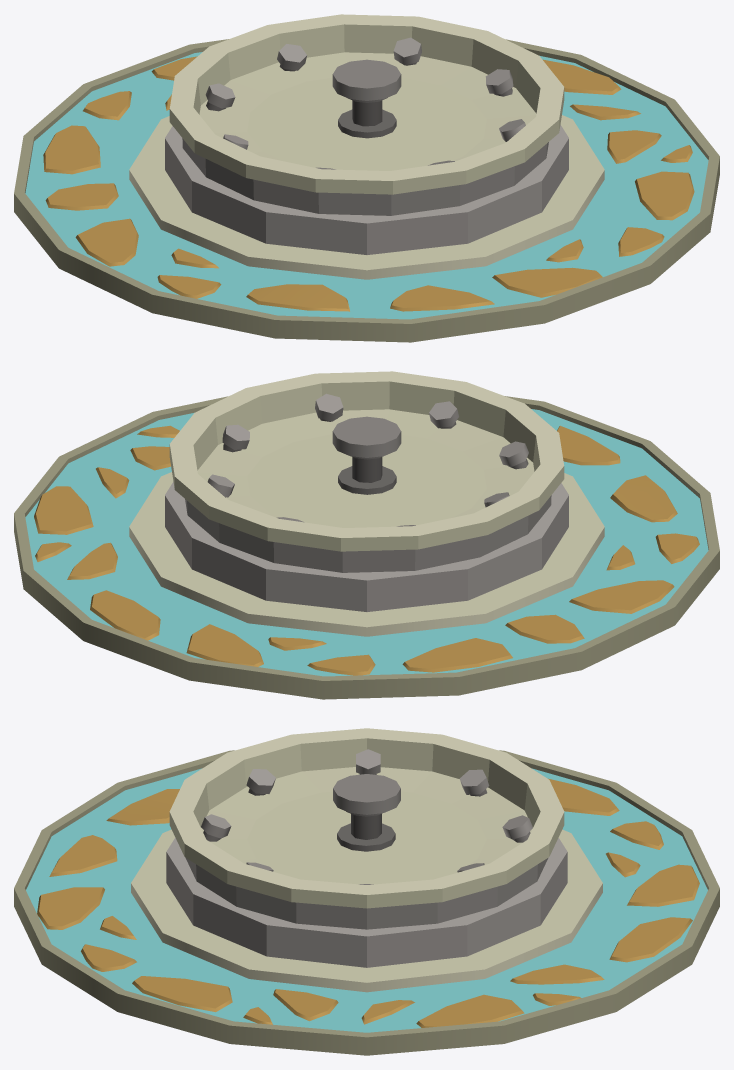
Rendered from fountain.FBX.
The picture shows the model from 3 angles, top to bottom: view 1: azimuth 30°, elevation 25°; view 2: azimuth 150°, elevation 25°; view 3: azimuth 270°, elevation 25°; orthographic projection.
Parts seen in each view (by area): view 1: fountain; view 2: fountain; view 3: fountain.
Part boxes in pixels (box(x1,y1,x2,y2)): fountain: box(14, 14, 719, 342); fountain: box(14, 371, 719, 699); fountain: box(14, 728, 719, 1055).
Size of the model in its own units: 897 by 166 by 897.
